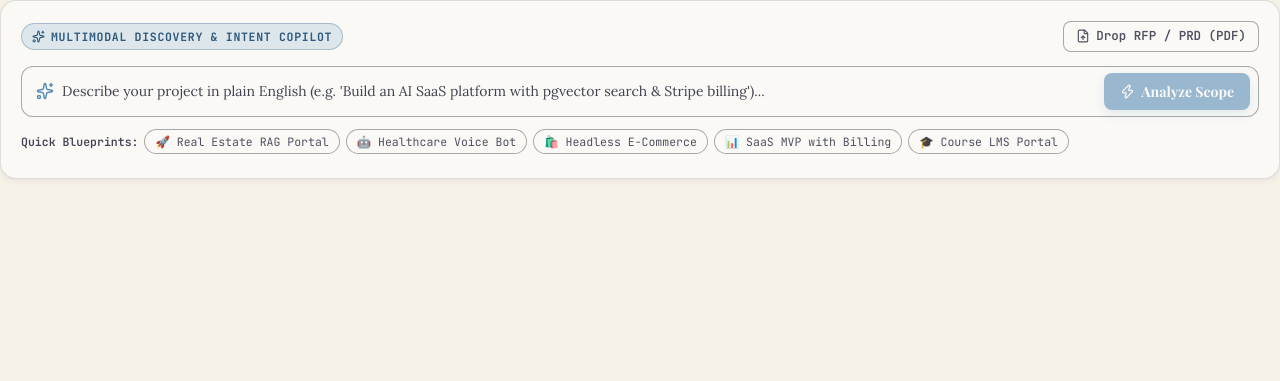
AiScopingPromptBar Component › renders quick blueprint pills and populates prompt on click
Click the button "🚀 Real Estate RAG Portal".
click(242, 141)  # box [144, 129, 340, 154]
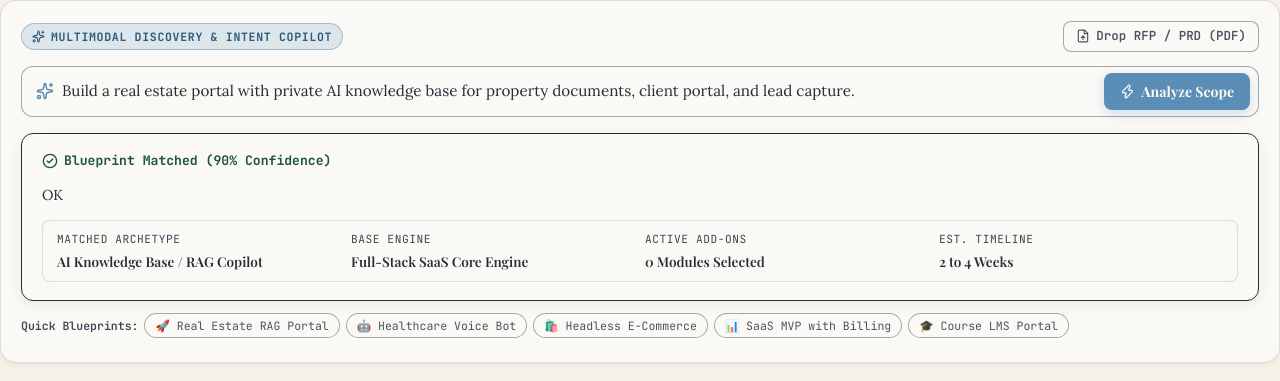
Now the element with test id "scoping-match-card" is shown, box [21, 133, 1259, 301]
